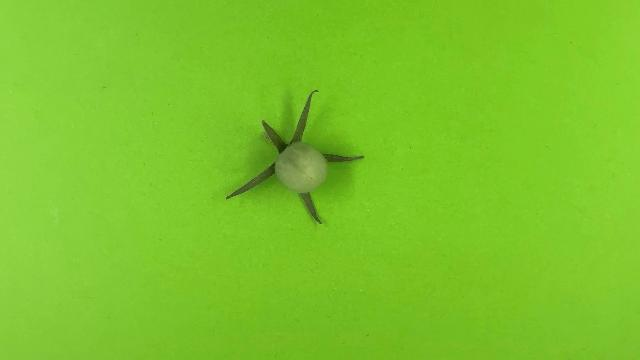Fruit Maturation: (274, 141, 330, 194)
